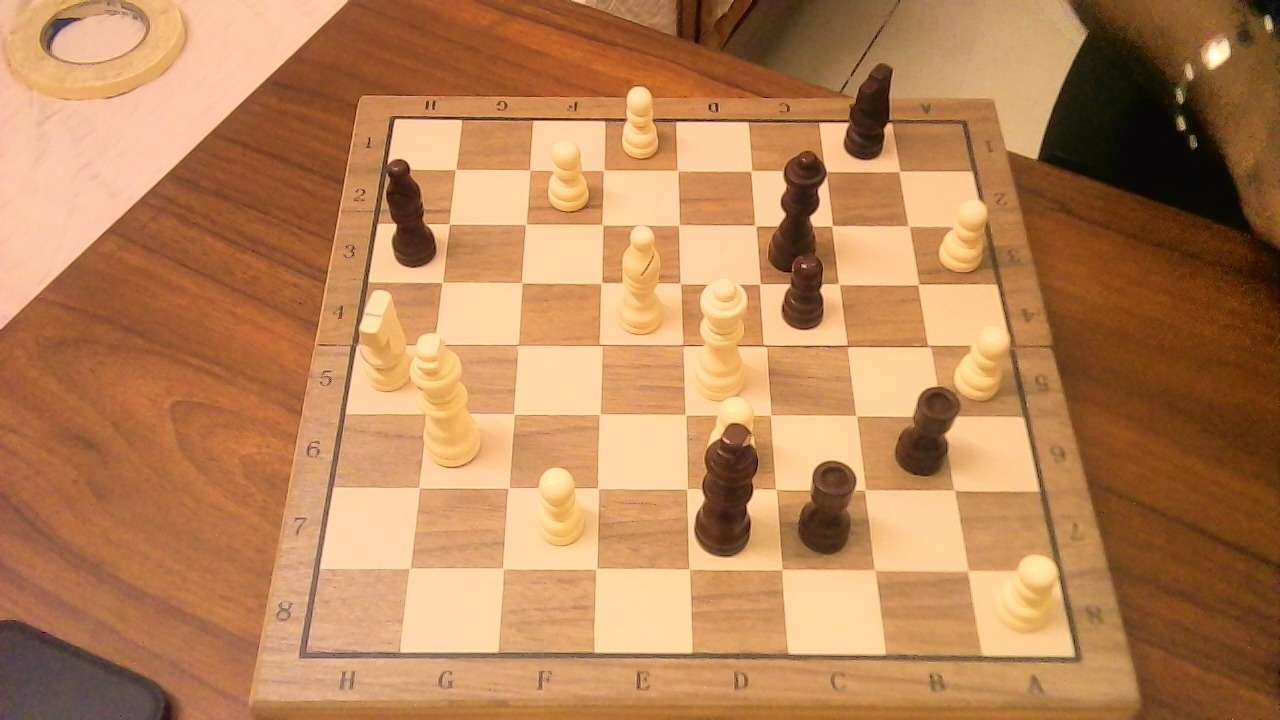B: (608, 214, 673, 339)
K: (407, 321, 492, 472)
N: (352, 314, 417, 397)
P: (989, 544, 1068, 637), (522, 458, 589, 551), (696, 386, 762, 480), (949, 316, 1018, 403), (932, 189, 996, 275), (538, 131, 595, 215), (613, 77, 665, 163)
Q: (689, 266, 759, 407)
b: (378, 147, 444, 272)
k: (691, 410, 773, 562)
n: (838, 50, 901, 163)
p: (775, 245, 836, 334)
q: (765, 138, 838, 276)
r: (888, 372, 970, 480), (790, 448, 868, 557)
